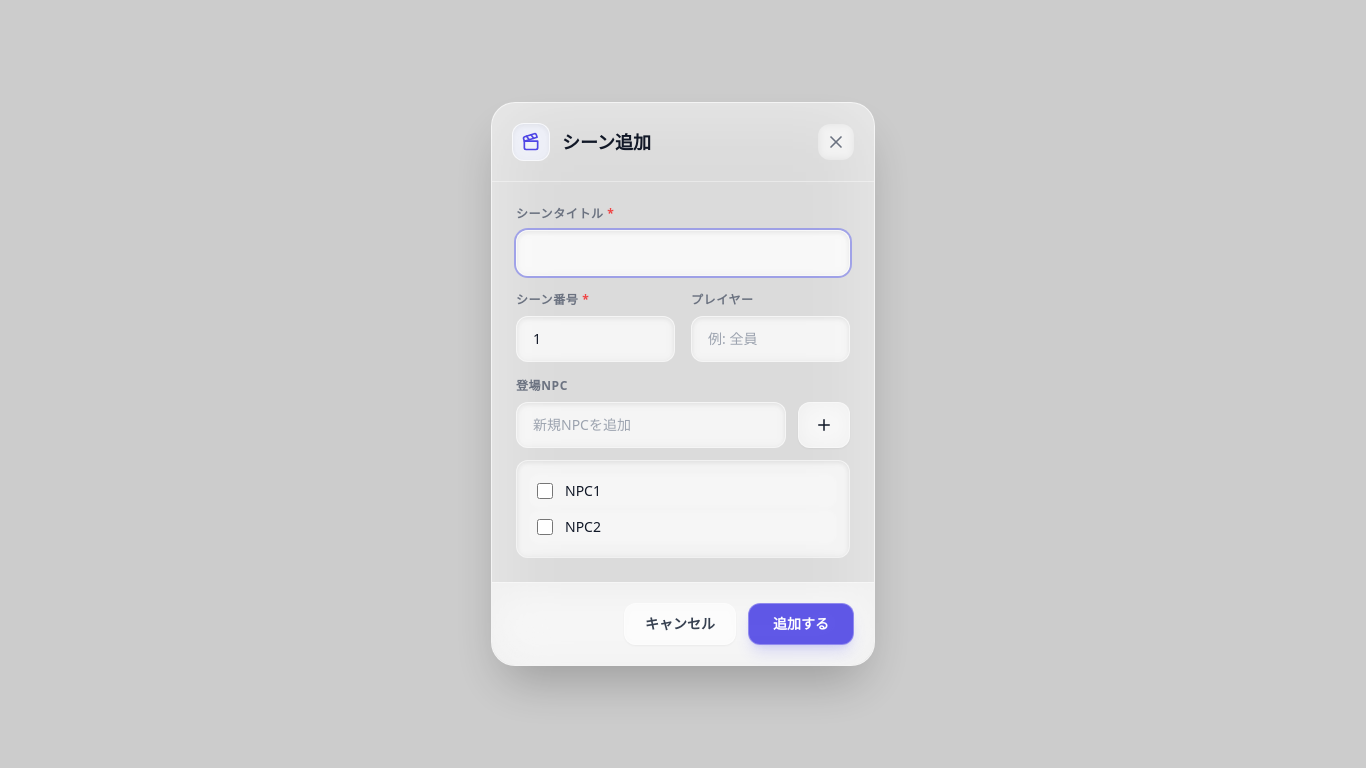
Test: SceneModal › shows a validation alert when required fields are missing
Click the button "追加する" at coordinates (801, 624), box [748,603,854,645]
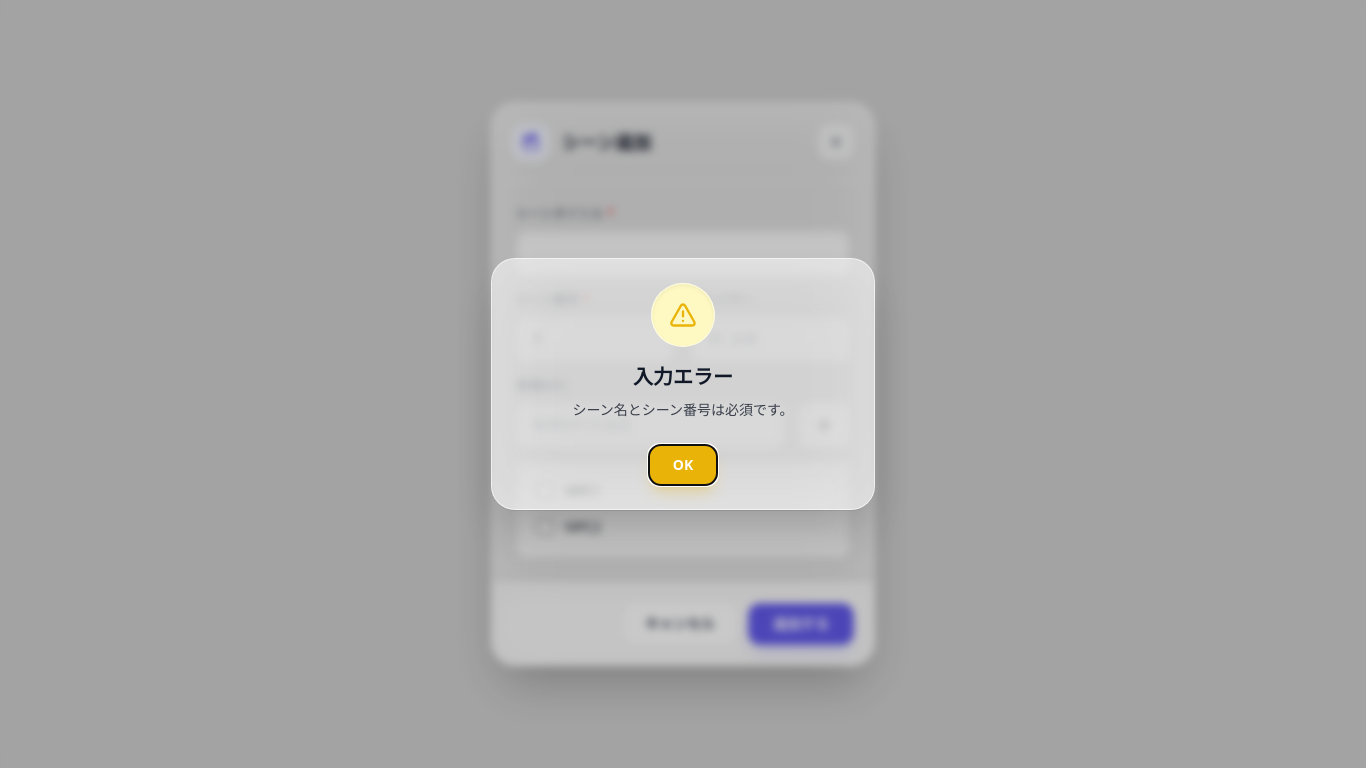
Result: the text "シーン名とシーン番号は必須です。" is shown at [572,400,794,419]
